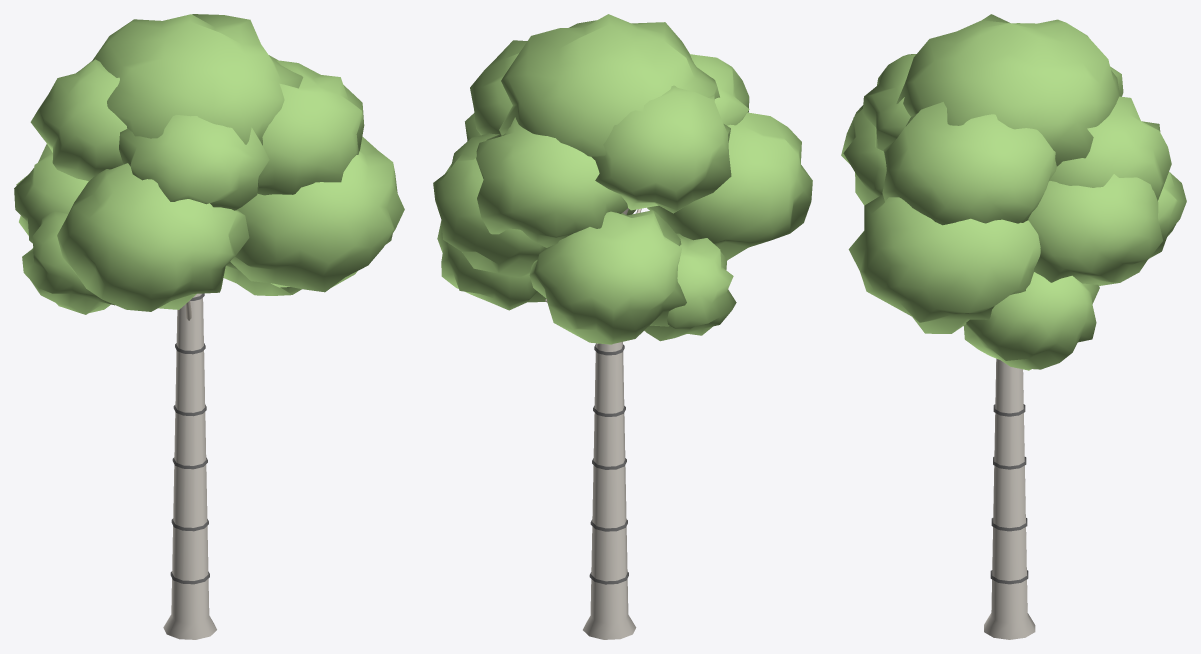
The model's file is tree-birch.glb.
The picture shows the model from 3 angles, left to right: view 1: azimuth 30°, elevation 25°; view 2: azimuth 150°, elevation 25°; view 3: azimuth 270°, elevation 25°; orthographic projection.
Visible parts, largest first — view 1: Tree; view 2: Tree; view 3: Tree.
Part boxes in pixels (x1,y1,x2,y2): Tree: (14,14,404,639); Tree: (433,14,812,639); Tree: (841,14,1186,639).
Size of the model in its own units: 1.94 by 3.46 by 1.79.
